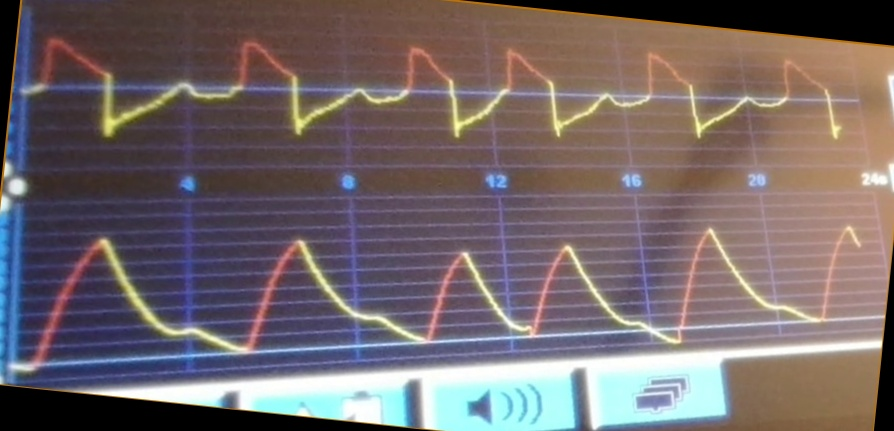Ineffective_effort Flow: (29, 32, 842, 155)
Ineffective_effort Volume: (17, 220, 861, 371)
